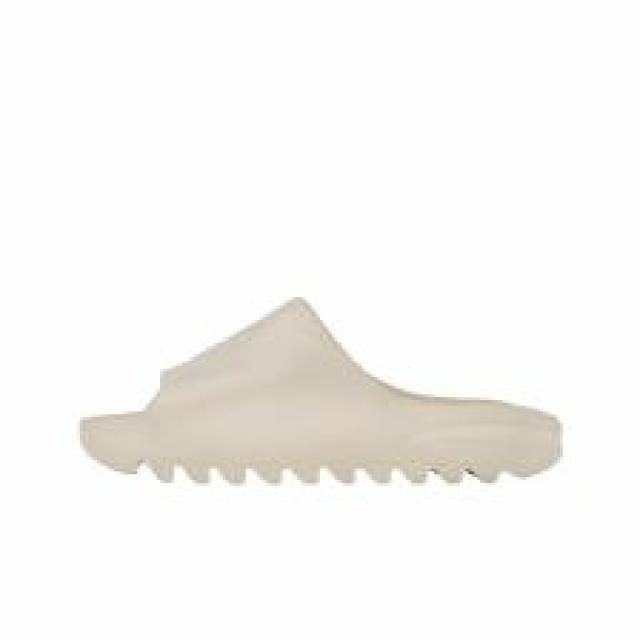shoe: (79, 298, 563, 485)
